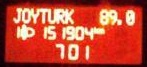-: (116, 17, 122, 25)
0: (66, 42, 78, 60), (124, 8, 135, 25), (75, 24, 83, 40)
1: (83, 43, 89, 61), (15, 24, 19, 39), (42, 25, 46, 40), (61, 25, 65, 40)
4: (84, 26, 93, 39)
5: (47, 24, 55, 40)
7: (54, 42, 65, 59)
8: (99, 7, 108, 25)
9: (109, 7, 117, 25), (65, 25, 74, 40)
X: (64, 7, 74, 23), (12, 6, 21, 23), (21, 7, 30, 23), (38, 7, 47, 23), (47, 7, 56, 23), (30, 6, 38, 23), (56, 7, 63, 23), (98, 27, 104, 34), (93, 25, 97, 34)
